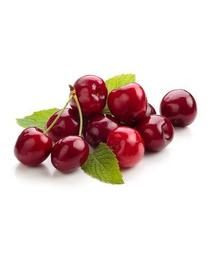cherry: (109, 83, 148, 125), (107, 127, 144, 170), (14, 126, 51, 167), (160, 89, 197, 129), (51, 137, 90, 174), (137, 114, 174, 152), (73, 75, 108, 113), (82, 114, 116, 149), (47, 109, 81, 139)
